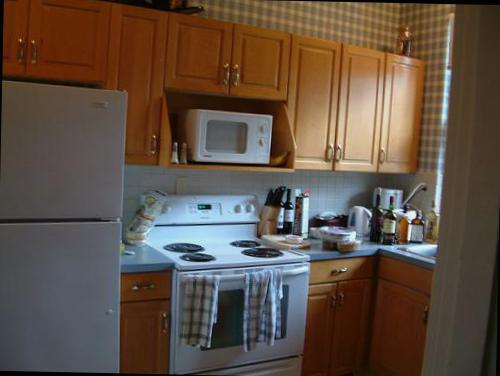Lavaplatos: (389, 205, 486, 271)
